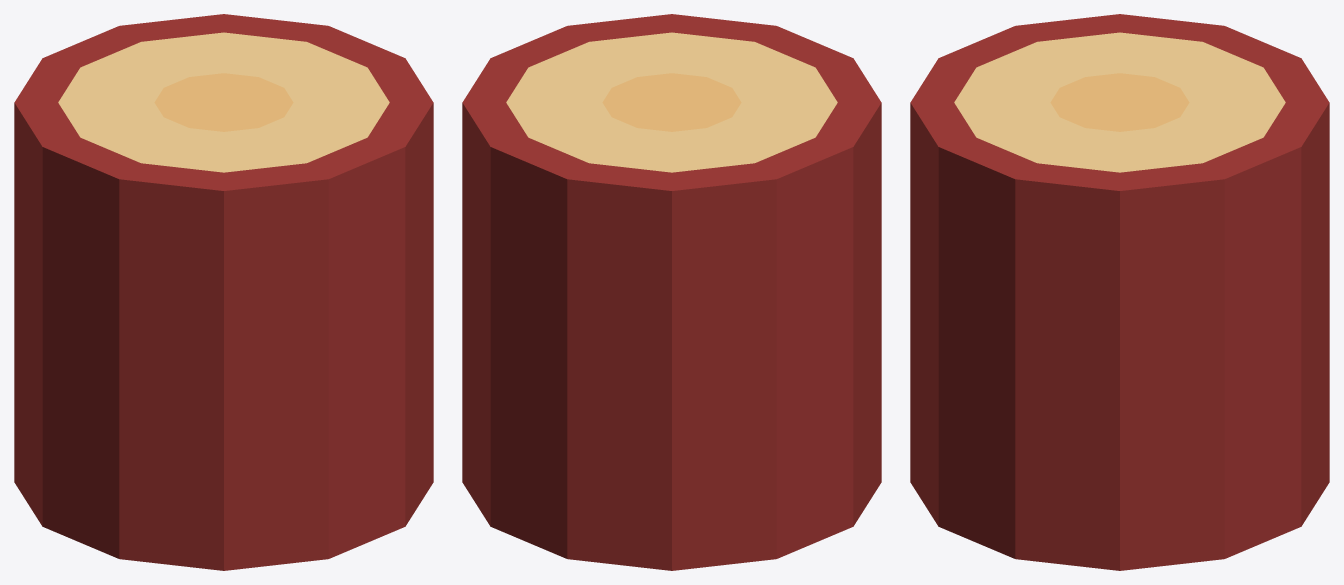
File: Wood.fbx
3 views of the same model, side by side, from view 1: azimuth 30°, elevation 25°; view 2: azimuth 150°, elevation 25°; view 3: azimuth 270°, elevation 25° (orthographic).
Visible parts, largest first — view 1: Cylinder; view 2: Cylinder; view 3: Cylinder.
Boxes of the visible parts, x1,y1,x2,y2 form: Cylinder: [14, 14, 433, 570]; Cylinder: [462, 14, 881, 570]; Cylinder: [910, 14, 1329, 570].
Size of the model in its own units: 200 by 200 by 200.
